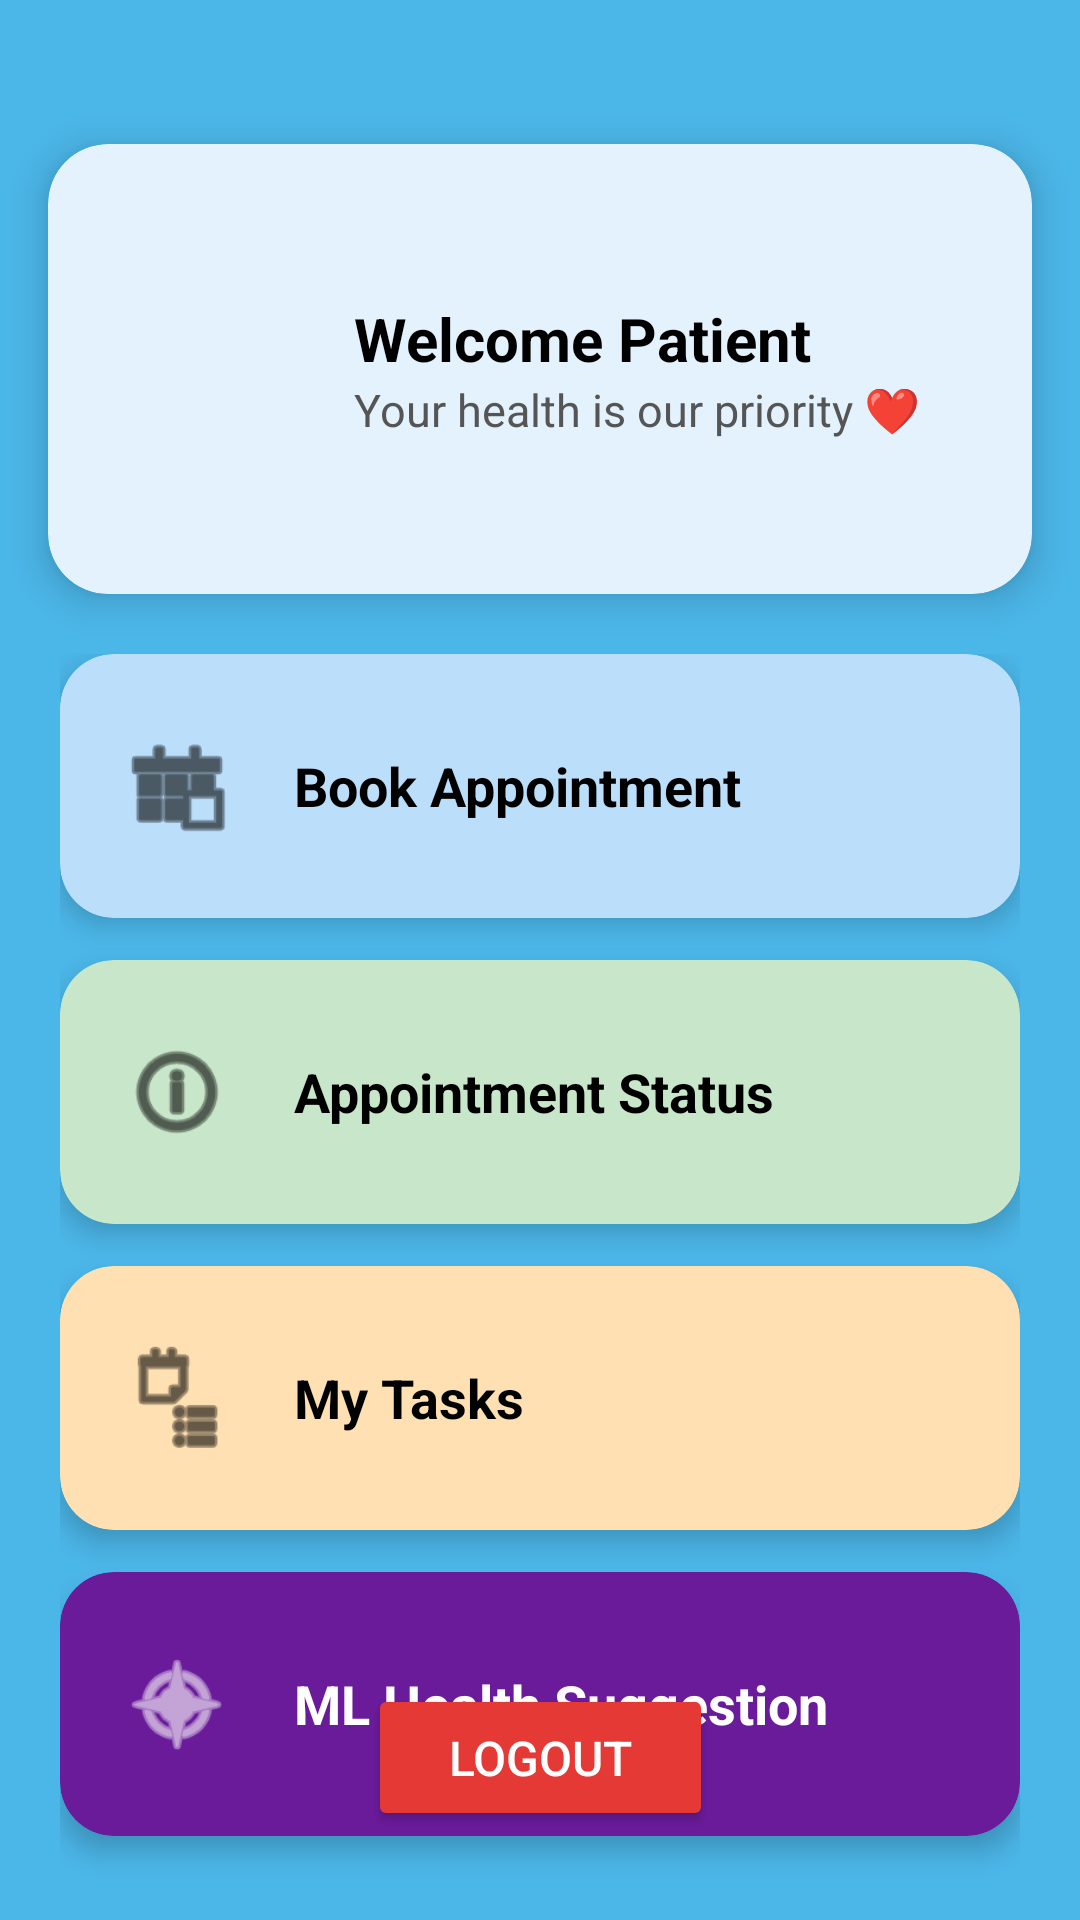

Named icons in this screenshot (1080x1920) and their centers, (x=x, y=y):
agenda: (x=178, y=1397)
compass: (x=177, y=1705)
info details: (x=177, y=1092)
today: (x=178, y=787)
